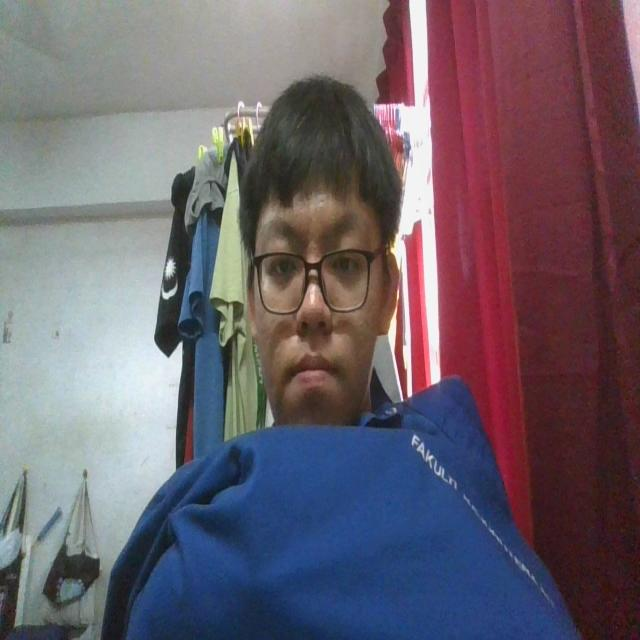person_without_labcoat: (102, 76, 579, 639)
